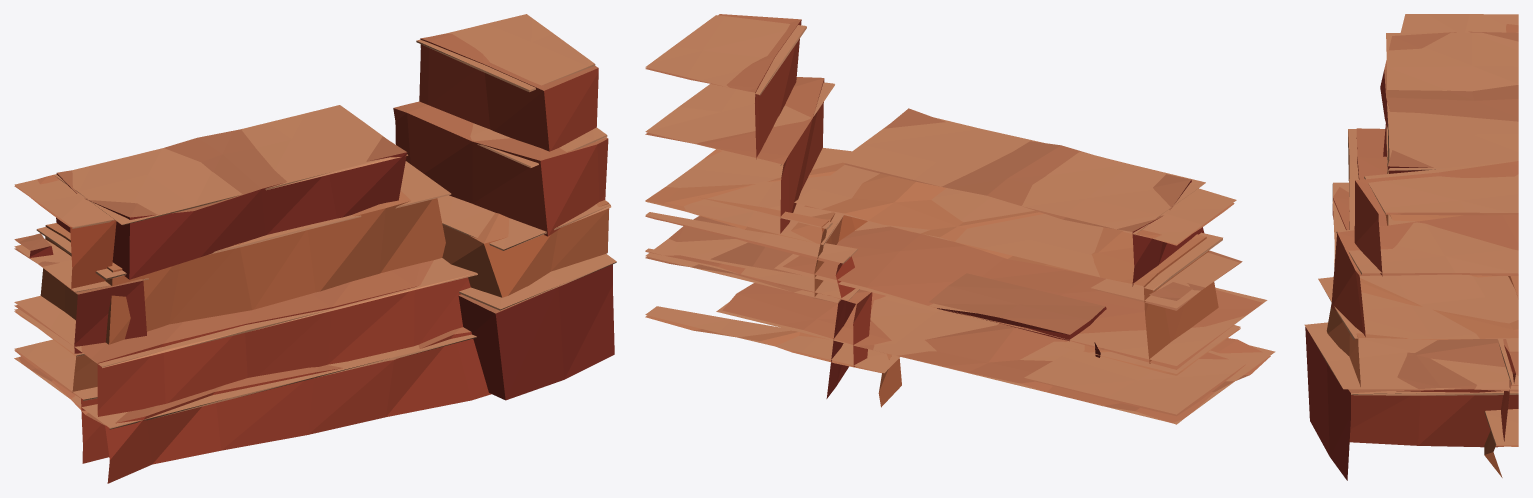
3 renders of one model, left to right at view 1: azimuth 30°, elevation 25°; view 2: azimuth 150°, elevation 25°; view 3: azimuth 270°, elevation 25°, orthographic. The views are drawn at different scales.
Visible parts, largest first — view 1: scene.4.6; view 2: scene.4.6; view 3: scene.4.6.
Boxes of the visible parts, x1,y1,x2,y2 form: scene.4.6: [14, 14, 616, 483]; scene.4.6: [645, 14, 1275, 424]; scene.4.6: [1304, 14, 1518, 480].
Size of the model in its own units: 62.5 by 32.84 by 23.28.
